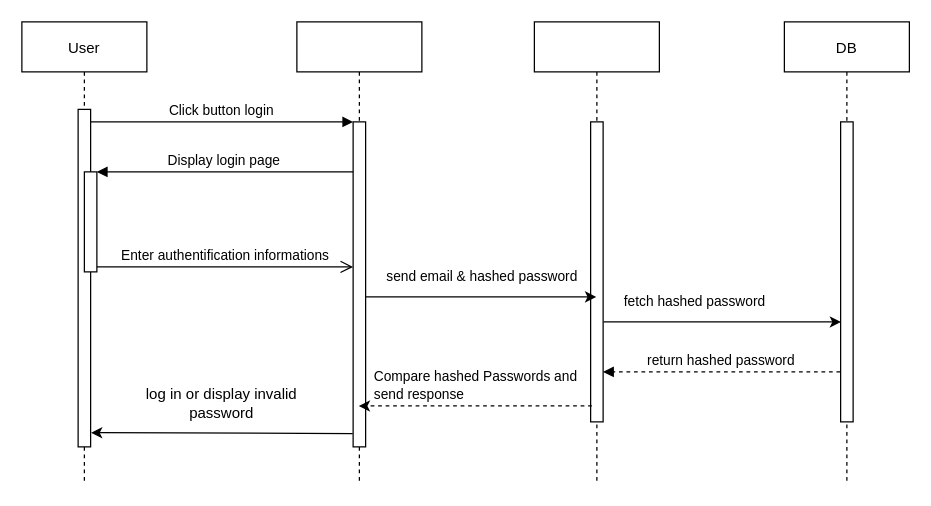
This 931x506 diagram has some shape labels left out. Here are the shapes that lost their labels. From the top down, the box of each, then its label:
(296, 21, 422, 484): webApp
(533, 21, 659, 484): server
